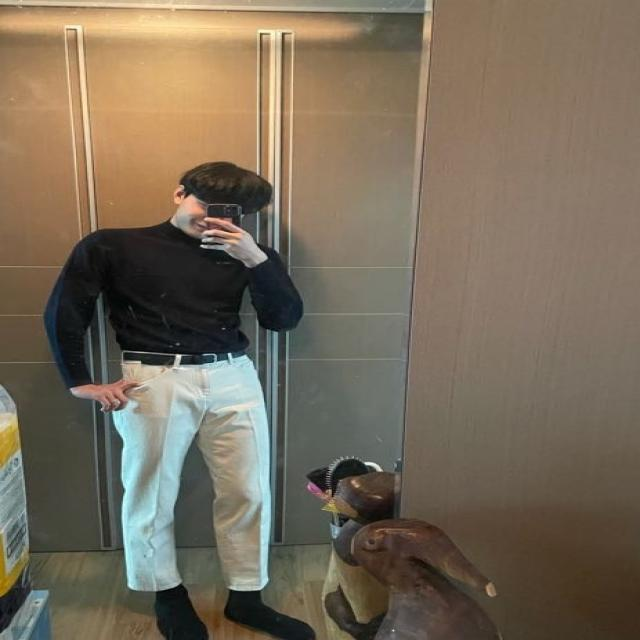longsleeve: (45, 226, 301, 390)
slacks: (112, 346, 270, 592)
